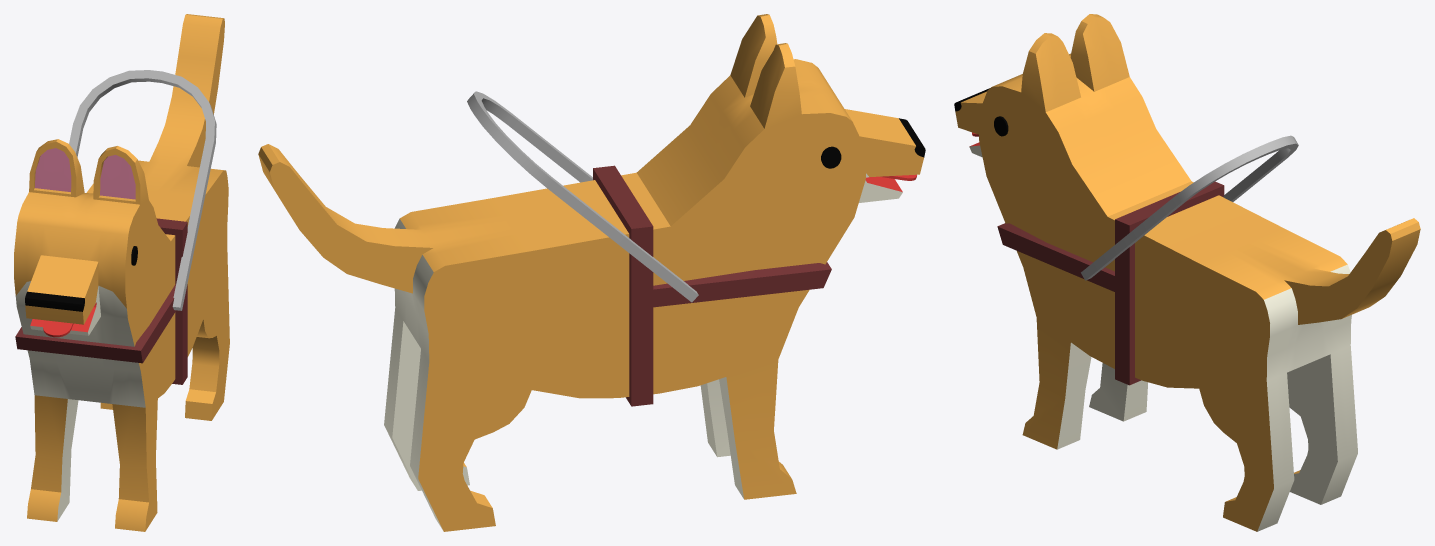
The model's file is guide_dog.glb.
3 views of the same model, side by side, from view 1: azimuth 30°, elevation 25°; view 2: azimuth 150°, elevation 25°; view 3: azimuth 270°, elevation 25° (orthographic). The views are drawn at different scales.
Parts seen in each view (by area): view 1: Plane.001, Cube.6170, Plane.109, Cube.001; view 2: Plane.001, Cube.6170, Plane.109; view 3: Plane.001, Cube.6170, Plane.109.
Boxes of the visible parts, left/top/right/bottom form: Plane.001: left=14, top=14, right=229, bottom=531; Cube.6170: left=15, top=218, right=187, bottom=384; Plane.109: left=69, top=70, right=216, bottom=310; Cube.001: left=43, top=320, right=73, bottom=337; Plane.001: left=258, top=14, right=925, bottom=531; Cube.6170: left=593, top=165, right=831, bottom=406; Plane.109: left=467, top=91, right=698, bottom=302; Plane.001: left=954, top=14, right=1420, bottom=531; Cube.6170: left=997, top=181, right=1224, bottom=385; Plane.109: left=1081, top=135, right=1298, bottom=280.
Bounding box in the file's own units: 2.06 × 1.91 × 2.06.
Materials: 1 (1 with a texture image).
